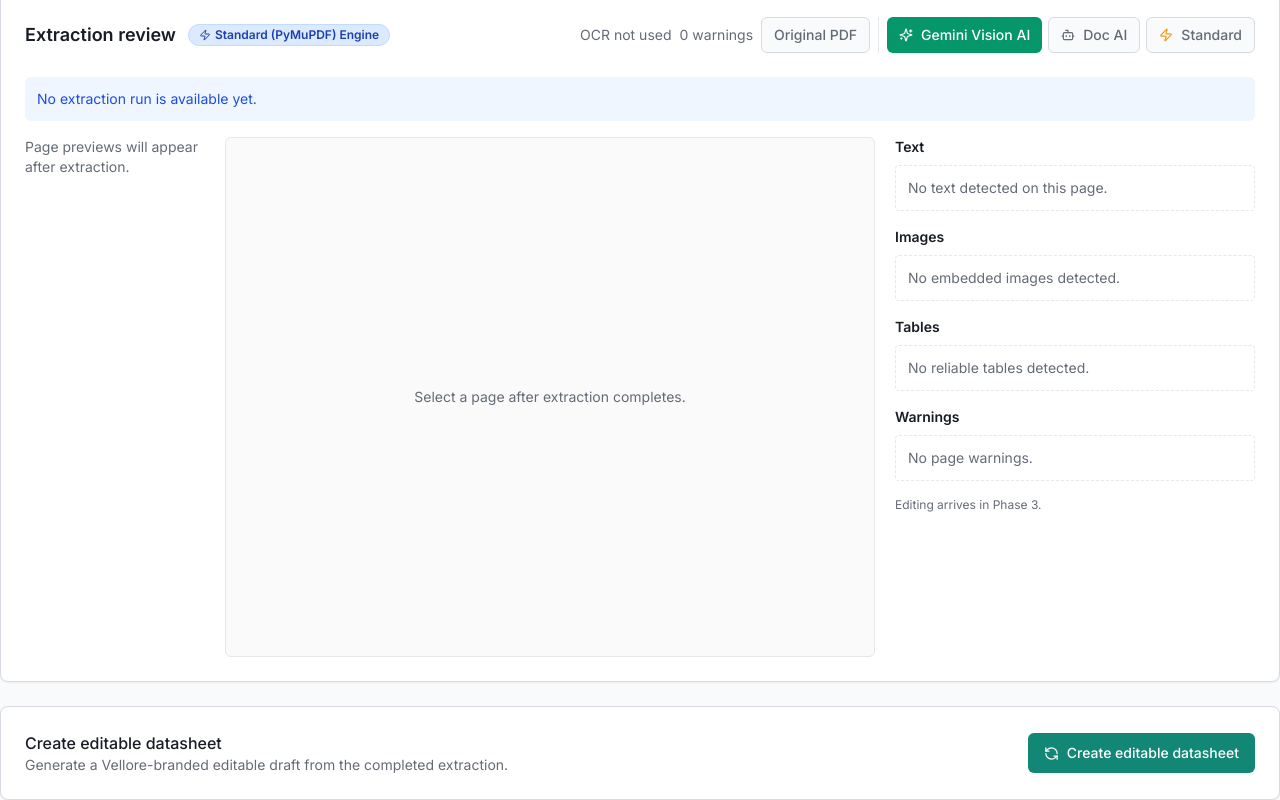
Test: DatasheetComposer › marks the saved layout editor experimental and keeps it collapsed by default
(page scrolled)
Click the button "Create editable datasheet" at coordinates (1141, 753), box [1028, 733, 1255, 773]
(page scrolled)
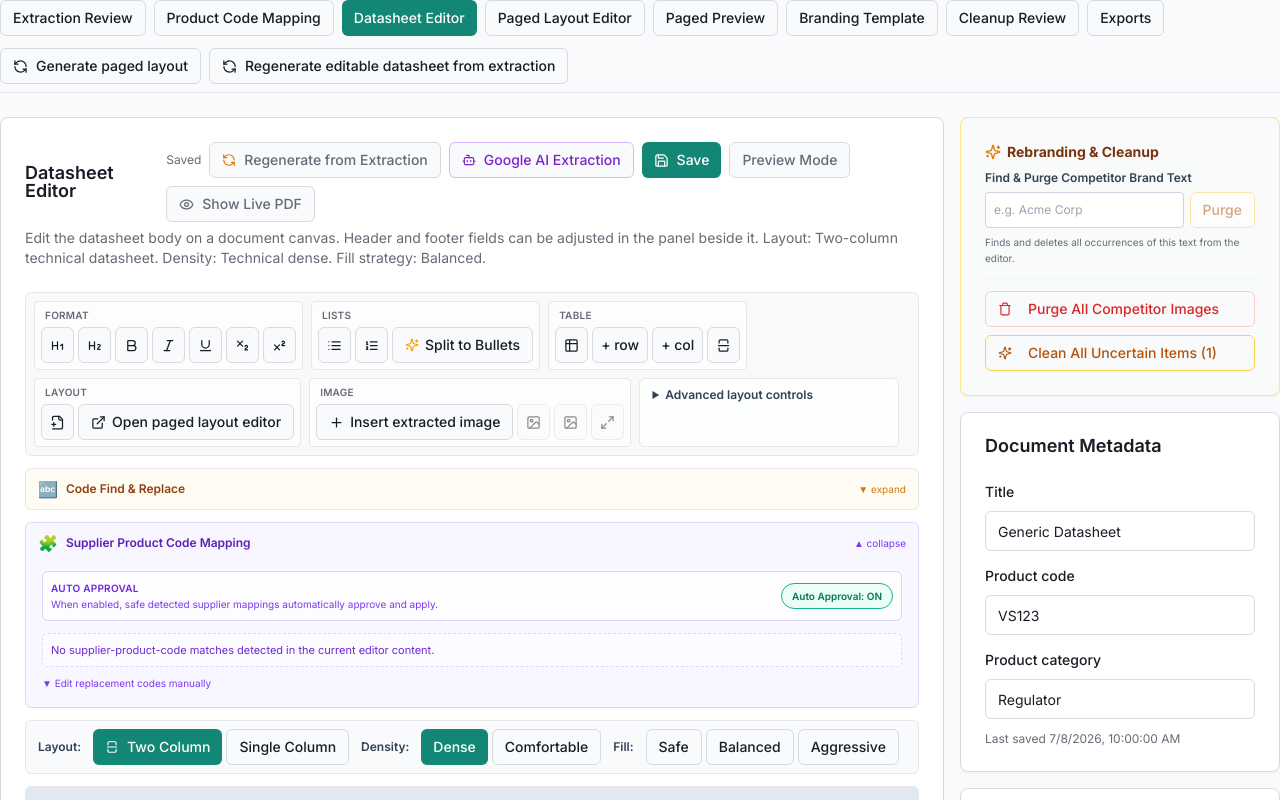
Click the button "Paged Layout Editor" at coordinates (565, 18), box [485, 0, 645, 36]
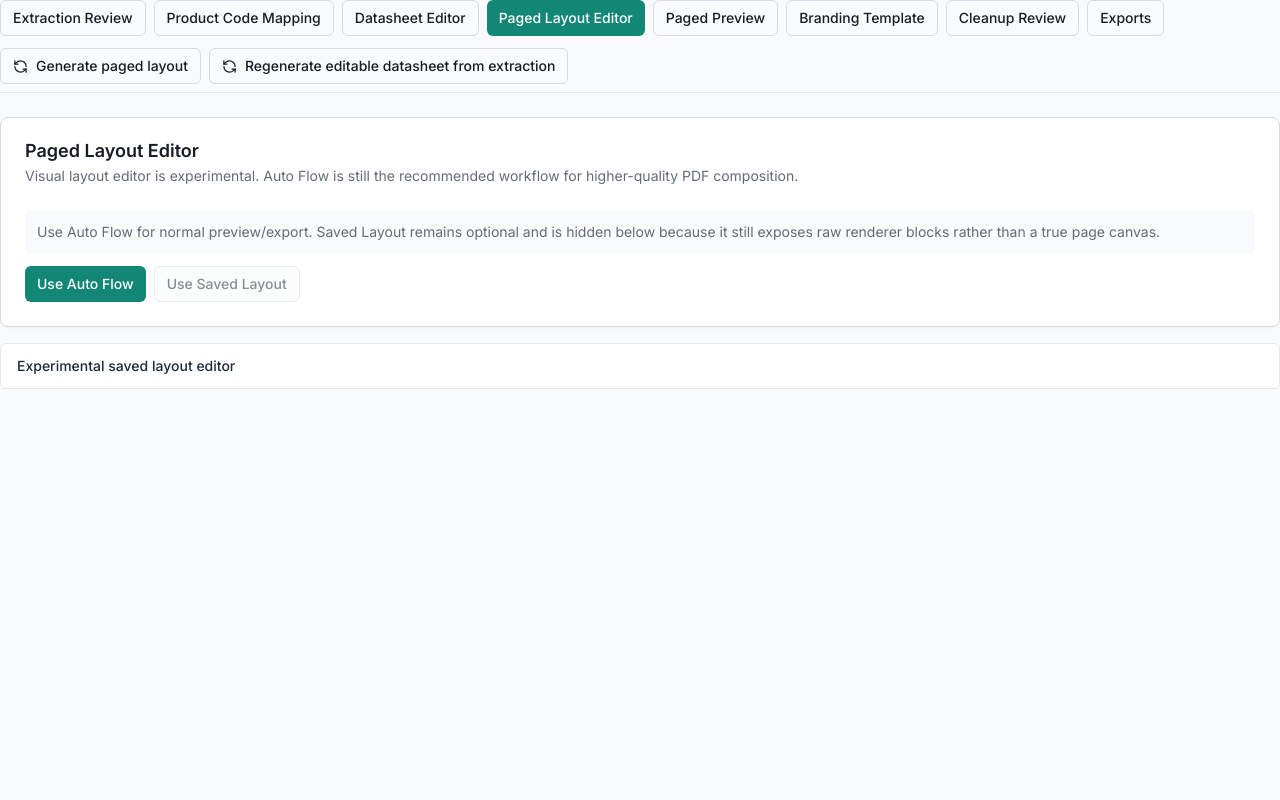
Check: the text "Visual layout editor is experimental." is shown, box [25, 167, 798, 184]
Check: the text "Auto Flow is still the recommended workflow" is shown, box [25, 167, 798, 184]
Check: the element with test id "experimental-saved-layout-editor" is shown, box [0, 343, 1279, 389]
